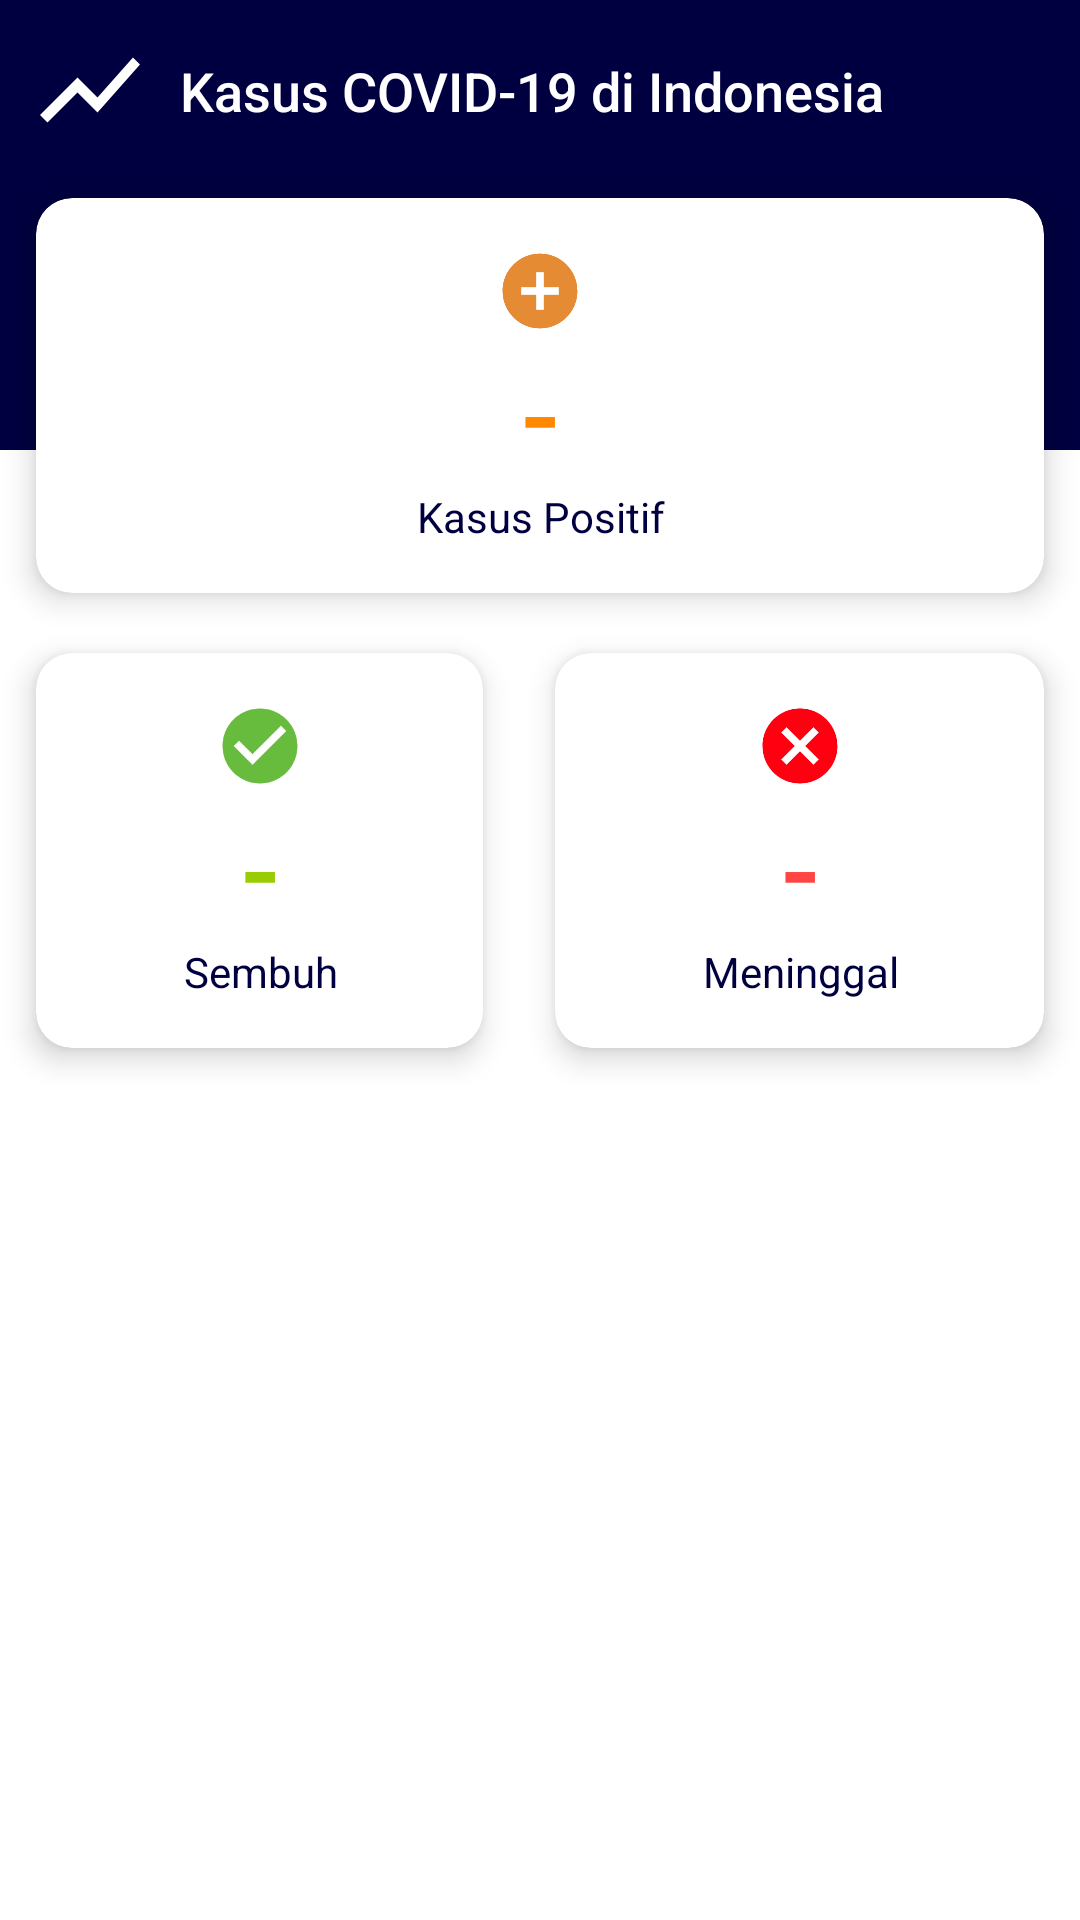

Screen size 1080 × 1920. Icon name, then its center in pixels as (x=x, y=y):
death: (x=800, y=746)
positive: (x=540, y=291)
recovered: (x=260, y=746)
show chart: (x=90, y=90)
